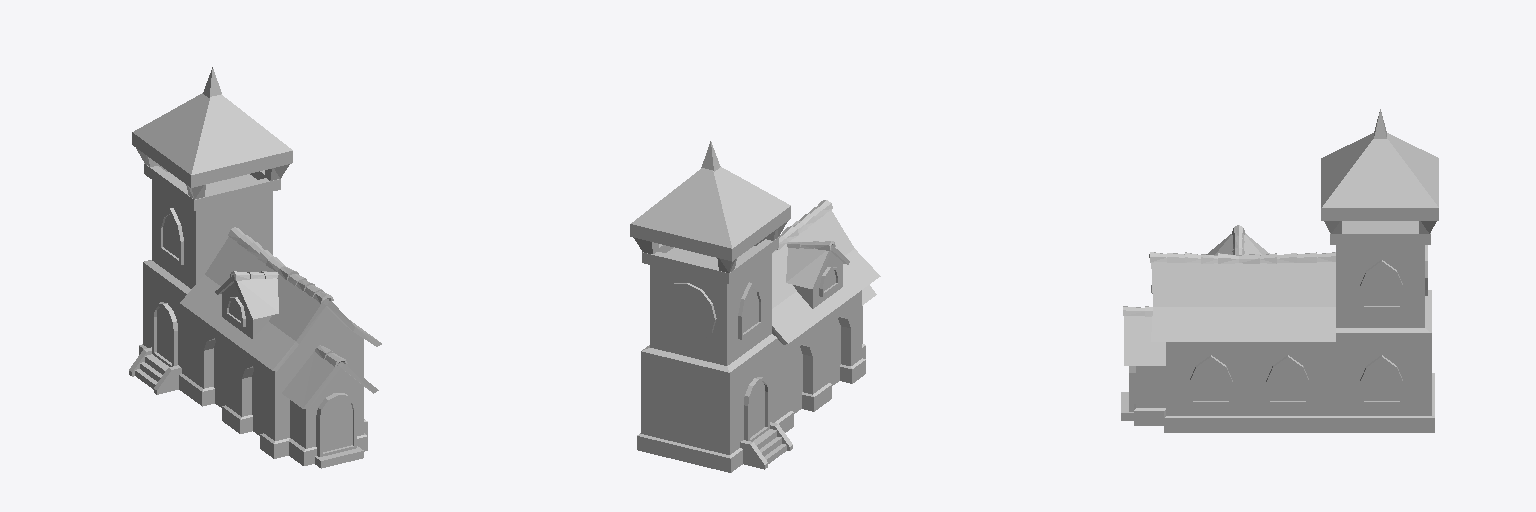
The picture shows the model from 3 angles: view 1: azimuth 30°, elevation 25°; view 2: azimuth 150°, elevation 25°; view 3: azimuth 270°, elevation 25°; orthographic projection.
Visible parts, largest first — view 1: Town hall w_Town hall w_0; view 2: Town hall w_Town hall w_0; view 3: Town hall w_Town hall w_0.
Part boxes in pixels (left/top/right/bottom): Town hall w_Town hall w_0: left=129, top=67, right=381, bottom=468; Town hall w_Town hall w_0: left=630, top=141, right=880, bottom=472; Town hall w_Town hall w_0: left=1121, top=109, right=1438, bottom=432.
Bounding box in the file's own units: 6.06 × 14.08 × 13.48.